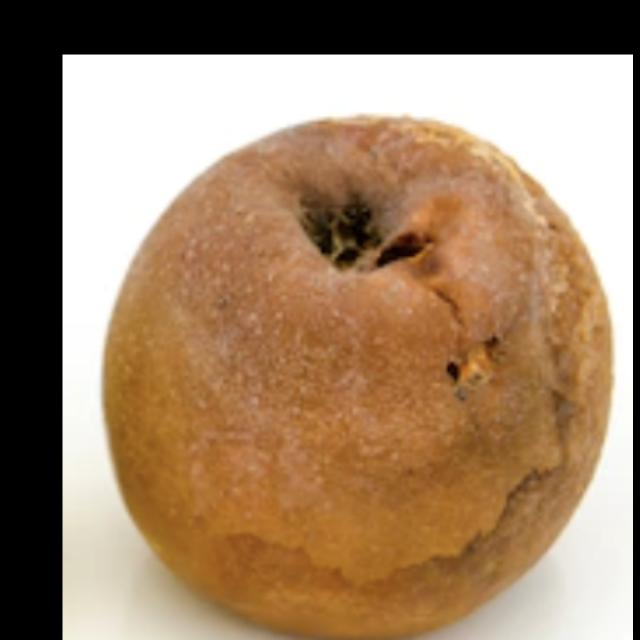Apel Tidak Segar: (85, 85, 597, 632)
